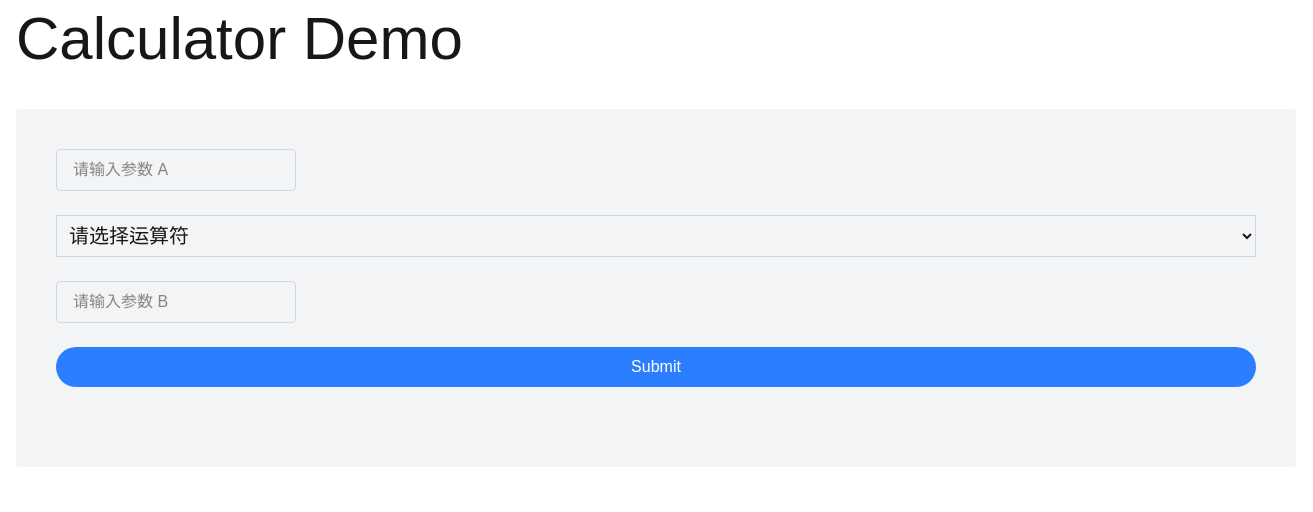
Test: Calculator Page › submits and shows error message
The width and height of the screenshot is (1313, 512).
Type "10" into the number field with placeholder "请输入参数 A" at coordinates (176, 170), box [56,149,296,191]
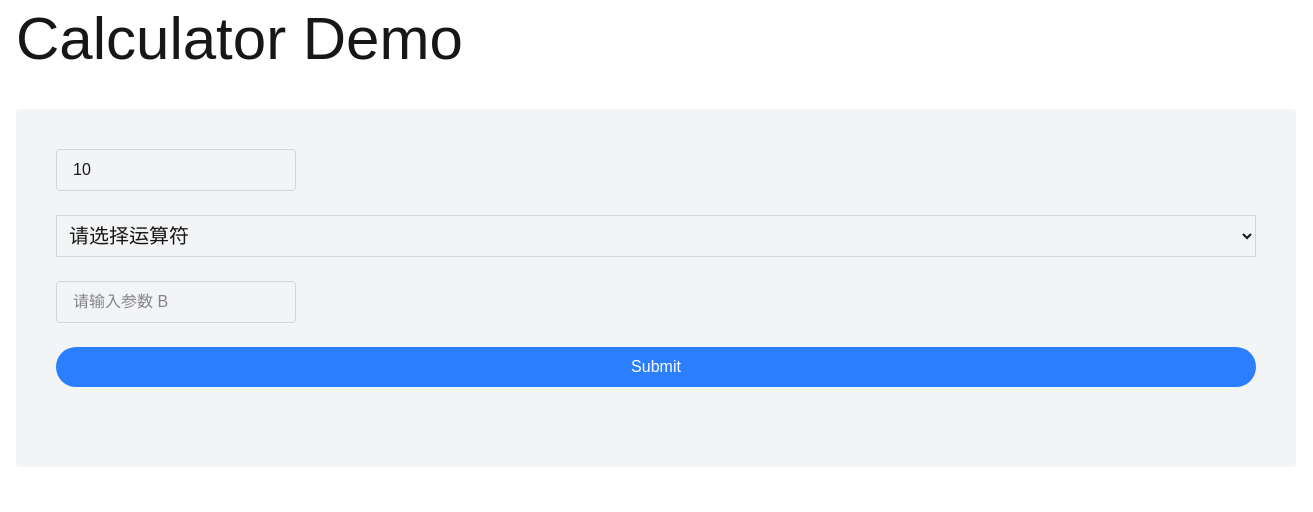
Type "32" into the number field with placeholder "请输入参数 B" at coordinates (176, 302), box [56,281,296,323]
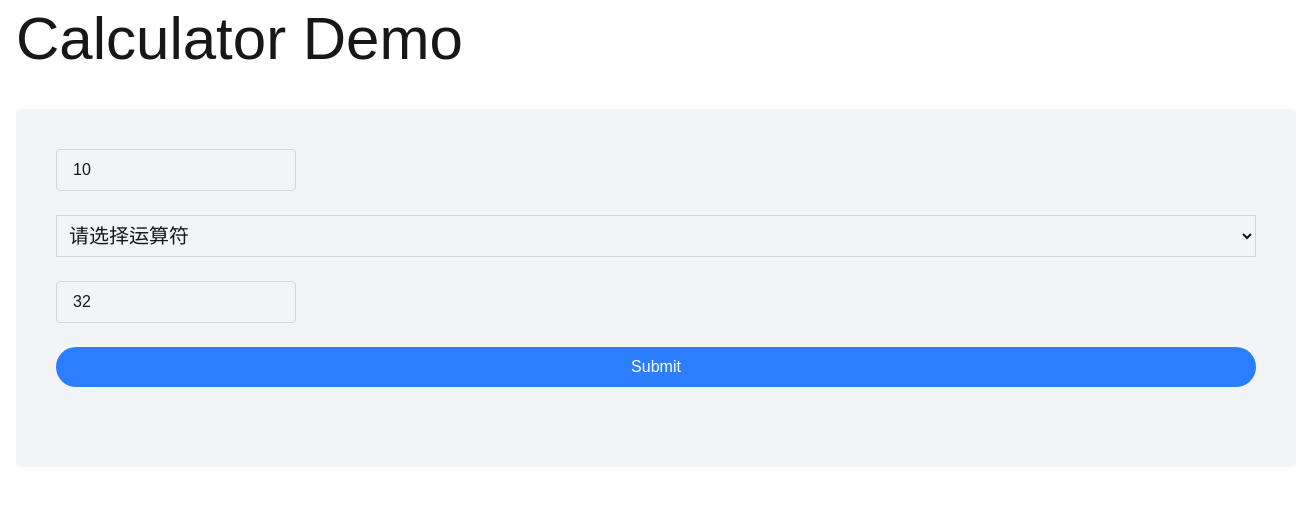
Select "+" in the dropdown at coordinates (656, 236), box [56,215,1256,257]
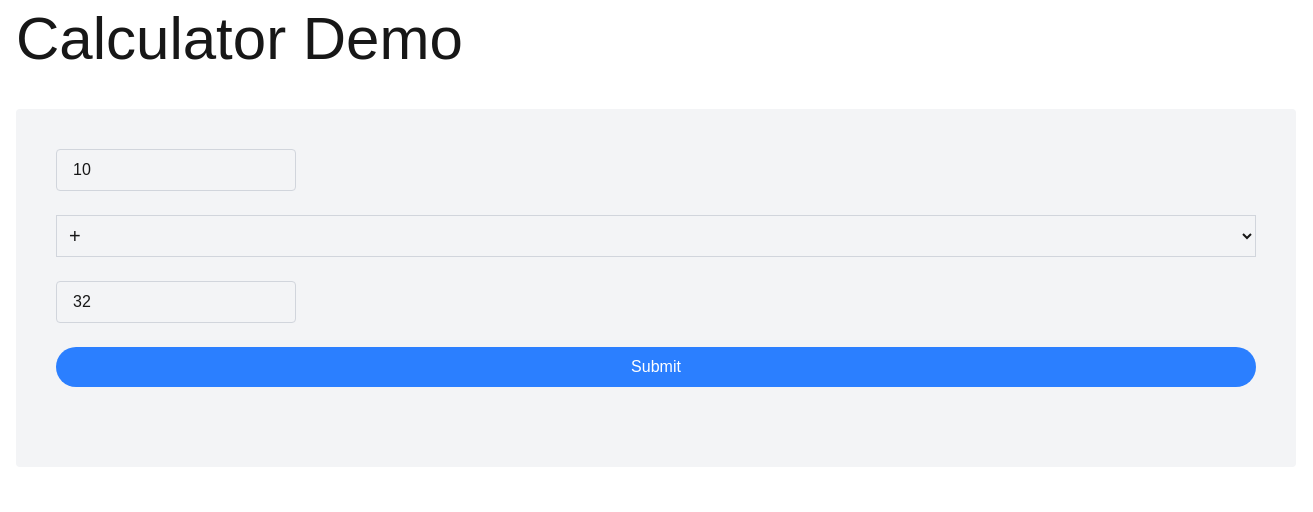
Click the button "Submit" at coordinates (656, 367), box [56,347,1256,387]
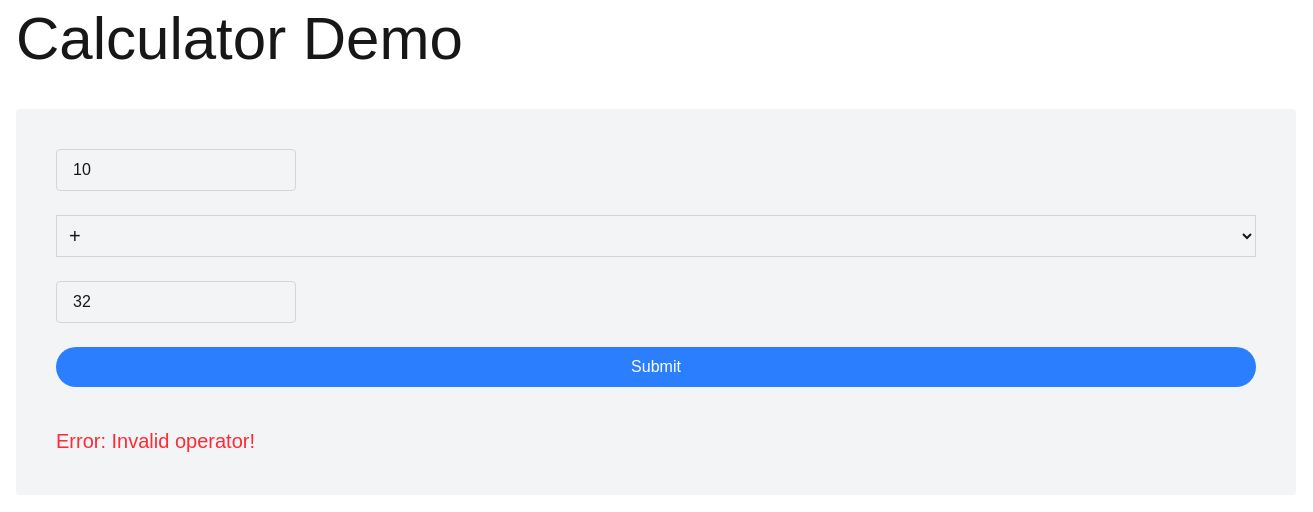
Check: the text "Error: Invalid operator!" is shown, box [56,430,255,452]
